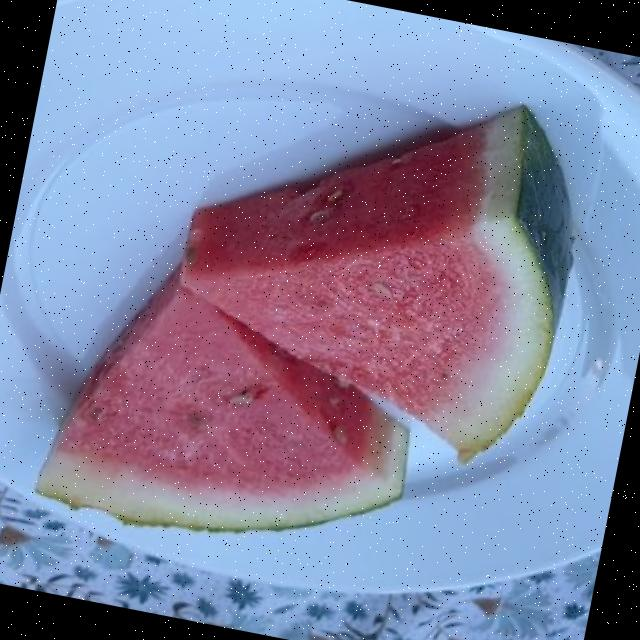watermelon-fresh: (48, 114, 567, 526)
